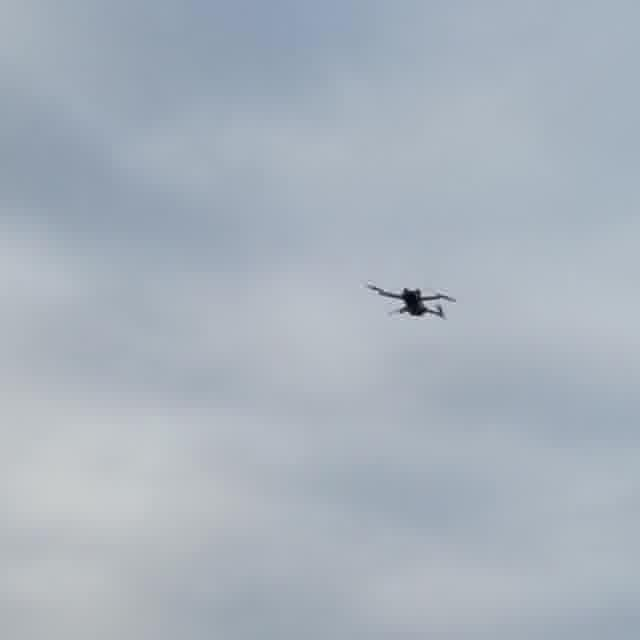Drohne: (367, 284, 455, 318)
